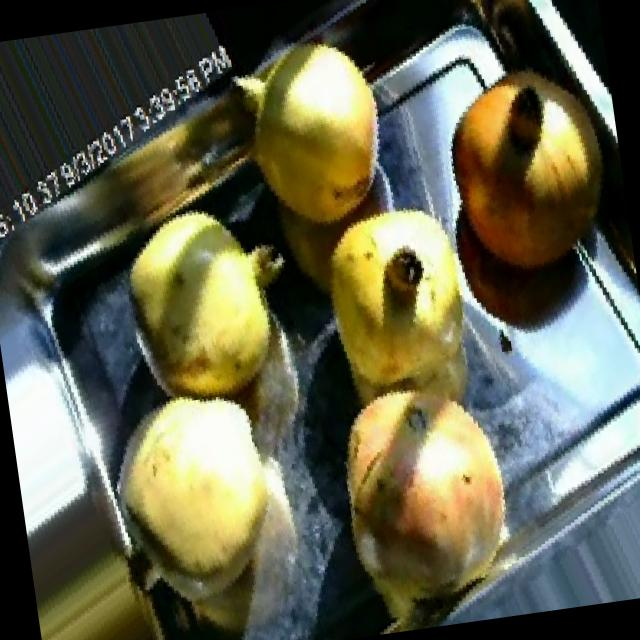fruit: (75, 355, 324, 640), (306, 351, 547, 640), (409, 35, 638, 308), (90, 174, 324, 436), (209, 0, 426, 258), (288, 170, 508, 420)
